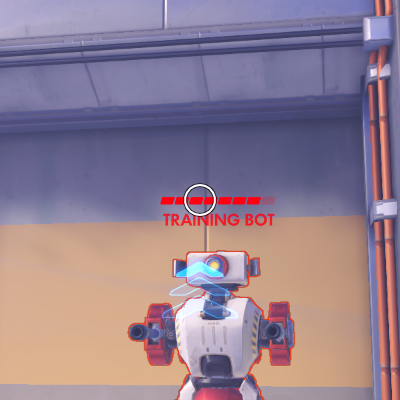hpbar: (160, 196, 276, 205)
